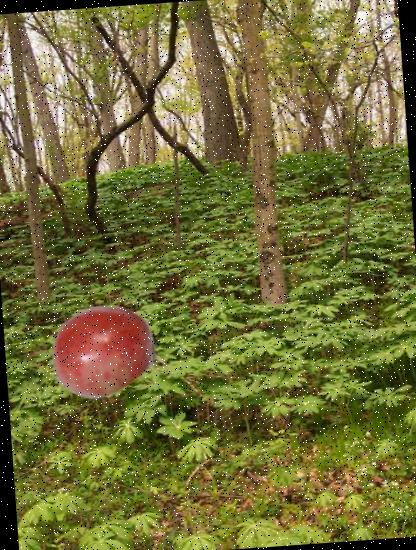Cherry: (44, 292, 158, 406)
